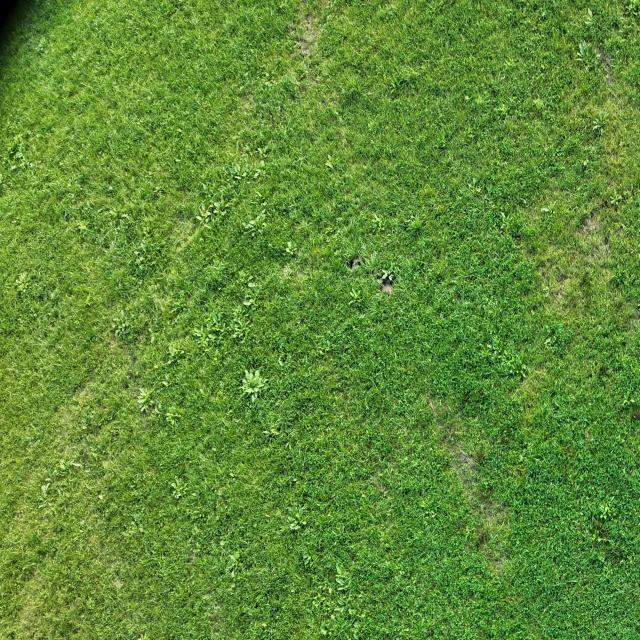rumex: (345, 415, 459, 562), (316, 268, 414, 382), (311, 562, 359, 634), (252, 73, 310, 128), (38, 454, 87, 509), (399, 205, 441, 254), (196, 188, 236, 232), (486, 338, 525, 378), (130, 231, 162, 279), (227, 295, 257, 344), (225, 153, 264, 188), (239, 203, 270, 238), (542, 321, 573, 353), (339, 86, 369, 114), (38, 472, 60, 510), (112, 309, 135, 342), (463, 173, 488, 203), (192, 323, 217, 352), (286, 503, 310, 533), (234, 269, 260, 296), (333, 562, 352, 598), (538, 200, 560, 228), (5, 133, 26, 161), (135, 386, 155, 414), (166, 339, 187, 364), (346, 284, 366, 310), (606, 270, 628, 293), (224, 550, 241, 579), (590, 110, 608, 137), (598, 498, 616, 524), (620, 386, 640, 409), (394, 72, 416, 92), (227, 159, 247, 179), (378, 263, 396, 283), (170, 478, 187, 499), (577, 39, 591, 64), (25, 429, 44, 447), (370, 212, 386, 233), (625, 1, 640, 21), (240, 294, 256, 310), (608, 190, 624, 206), (365, 250, 378, 269), (164, 410, 178, 427), (36, 35, 48, 54), (65, 456, 81, 470), (284, 240, 298, 256), (335, 560, 347, 578), (383, 7, 398, 21), (16, 278, 30, 293), (232, 304, 246, 318), (498, 102, 511, 116), (40, 482, 50, 500), (324, 156, 335, 171), (76, 221, 88, 233), (256, 146, 268, 158), (212, 199, 224, 211), (198, 202, 209, 215), (232, 329, 244, 340), (116, 309, 126, 322), (269, 427, 280, 438), (233, 319, 244, 330), (553, 323, 565, 333), (316, 346, 328, 356), (225, 560, 235, 572), (211, 310, 219, 324), (490, 338, 500, 349), (277, 337, 286, 349), (140, 239, 149, 251), (597, 109, 607, 119), (289, 521, 299, 531), (475, 95, 484, 106), (262, 427, 273, 436), (388, 81, 397, 92), (586, 7, 593, 21), (320, 624, 328, 636), (120, 212, 130, 221), (380, 269, 389, 279), (247, 218, 256, 228), (500, 211, 508, 222), (278, 356, 286, 367), (148, 334, 156, 345), (350, 288, 358, 299), (588, 145, 596, 155), (138, 402, 146, 412), (544, 337, 552, 346), (258, 159, 265, 169), (540, 207, 551, 213), (194, 331, 203, 338), (583, 159, 589, 169), (47, 467, 52, 479), (195, 215, 203, 222), (60, 462, 66, 471), (327, 586, 333, 595), (162, 380, 169, 387), (592, 532, 597, 541), (464, 95, 471, 101), (26, 436, 34, 440)
